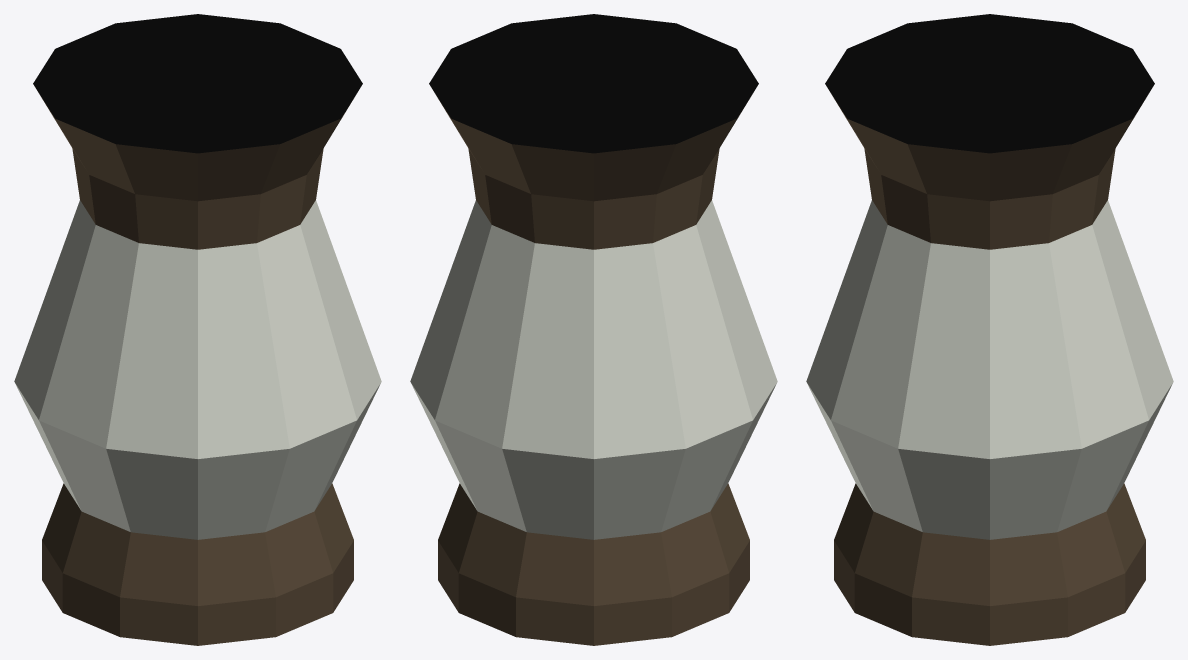
Rendered from Flashlight.fbx.
The picture shows the model from 3 angles, left to right: view 1: azimuth 30°, elevation 25°; view 2: azimuth 150°, elevation 25°; view 3: azimuth 270°, elevation 25°; orthographic projection.
Parts seen in each view (by area): view 1: Flashlight; view 2: Flashlight; view 3: Flashlight.
Boxes of the visible parts, x1,y1,x2,y2 form: Flashlight: (14,14,381,645); Flashlight: (410,14,777,645); Flashlight: (806,14,1173,645).
Bounding box in the file's own units: 81.49 × 121 × 81.49.
